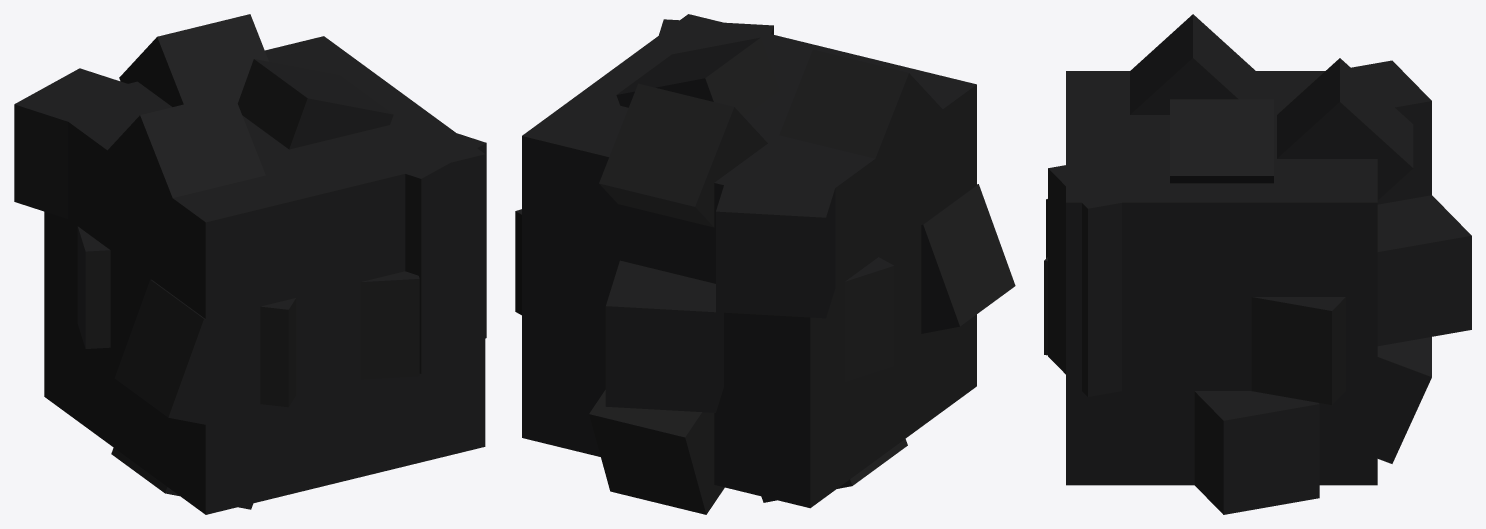
File: stonerokakakafruit.obj
3 renders of one model, left to right at view 1: azimuth 30°, elevation 25°; view 2: azimuth 150°, elevation 25°; view 3: azimuth 270°, elevation 25°, orthographic. The views are drawn at different scales.
Visible parts, largest first — view 1: cube; view 2: cube; view 3: cube.
Boxes of the visible parts, x1=… form: cube: x1=14, y1=14, x2=486, y2=514; cube: x1=515, y1=14, x2=1015, y2=514; cube: x1=1044, y1=14, x2=1471, y2=514.
Bounding box in the file's own units: 0.2549 × 0.2628 × 0.2573.
